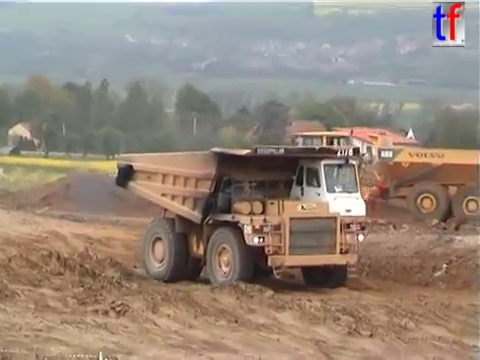truck: (113, 142, 391, 291), (257, 129, 480, 231)
